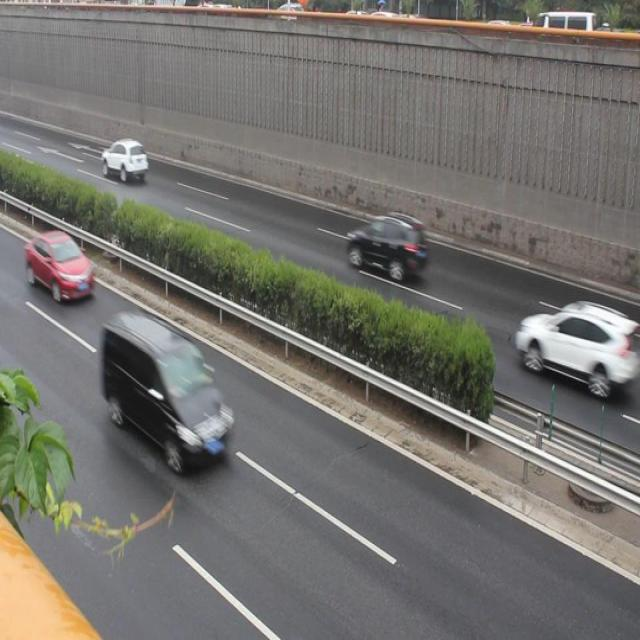car: (515, 297, 630, 393), (344, 210, 431, 283), (24, 222, 92, 302), (99, 135, 149, 186)
truck: (103, 310, 231, 460)
